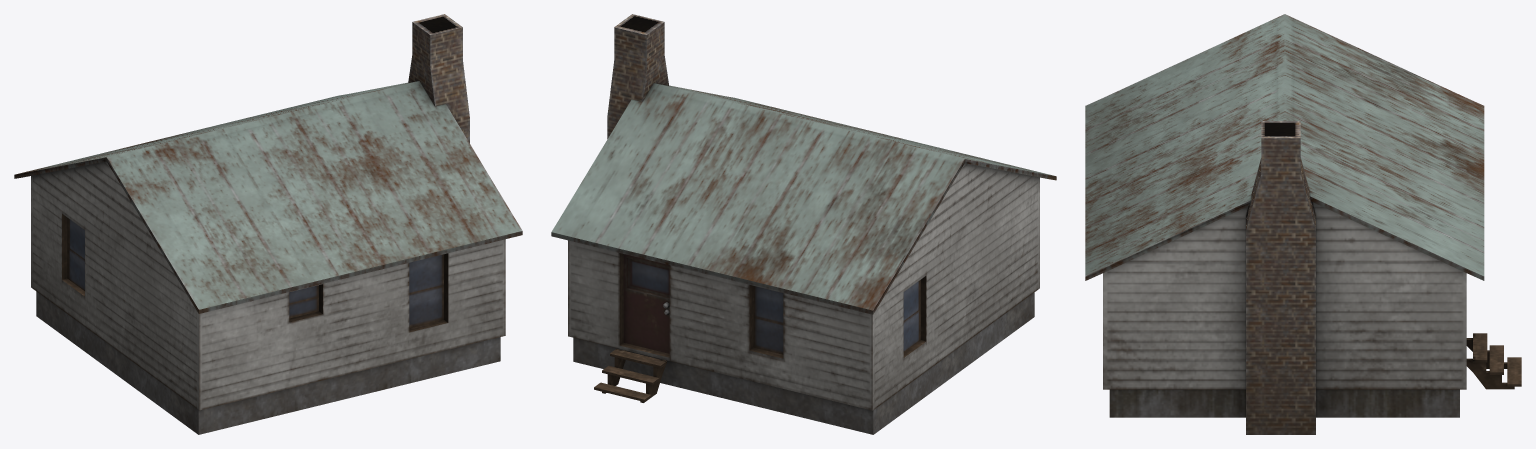
The model's file is House_02.fbx.
The picture shows the model from 3 angles, left to right: view 1: azimuth 30°, elevation 25°; view 2: azimuth 150°, elevation 25°; view 3: azimuth 270°, elevation 25°; orthographic projection. The views are drawn at different scales.
Parts seen in each view (by area): view 1: Object001.001; view 2: Object001.001; view 3: Object001.001.
Part boxes in pixels (x1=…): Object001.001: x1=14, y1=14, x2=522, y2=434; Object001.001: x1=551, y1=14, x2=1056, y2=434; Object001.001: x1=1085, y1=14, x2=1521, y2=434.
Bounding box in the file's own units: 13.32 × 10.11 × 13.48.
